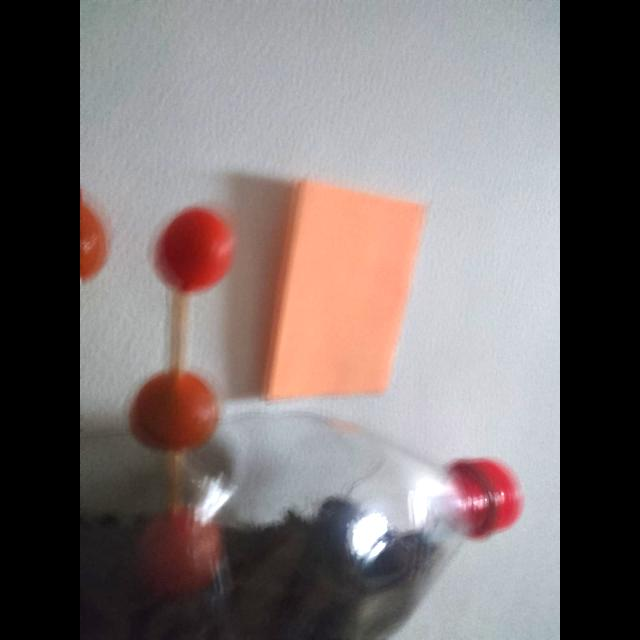card: (262, 181, 425, 400), (263, 181, 425, 399)
fruit_maturation: (139, 508, 222, 597), (80, 195, 106, 281)
fully_grown: (130, 370, 219, 451), (155, 207, 234, 293)
